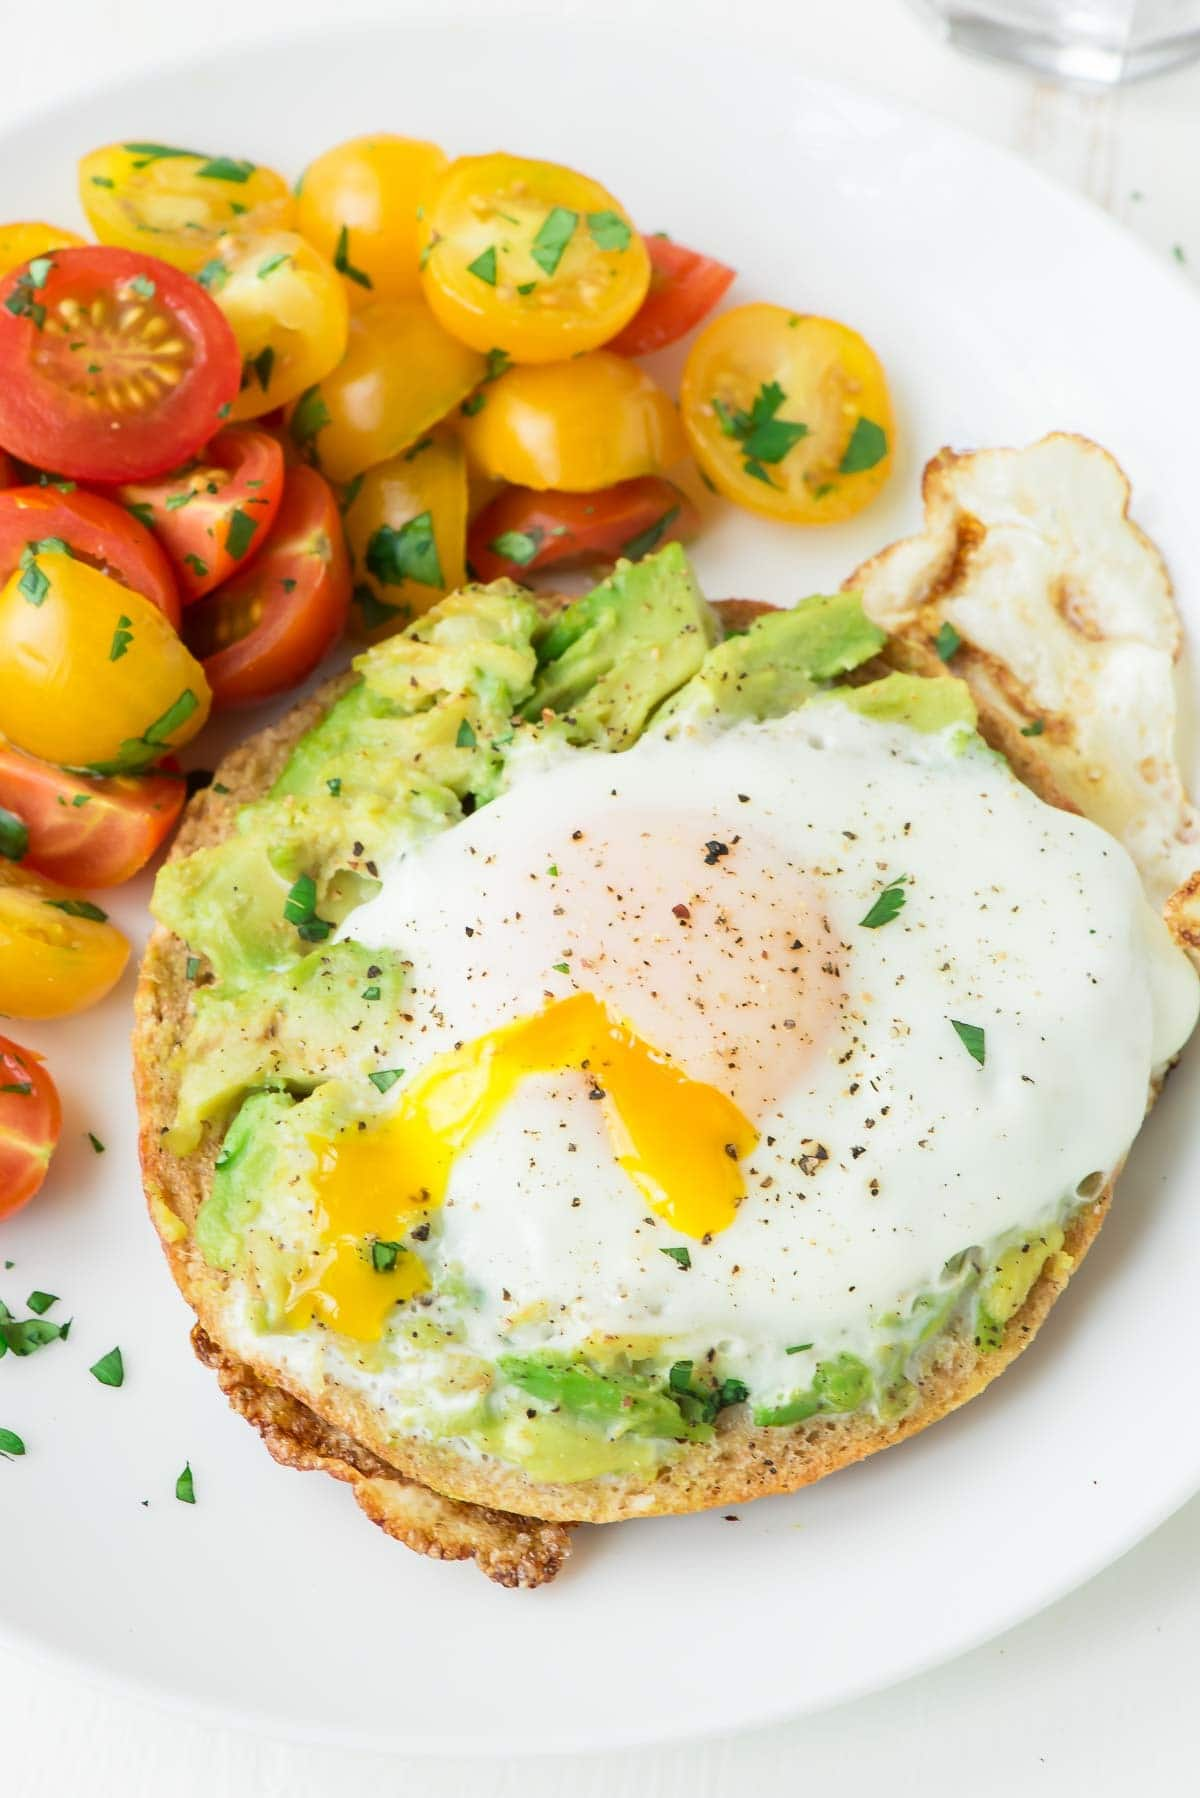fried egg: (362, 762, 1075, 1309)
